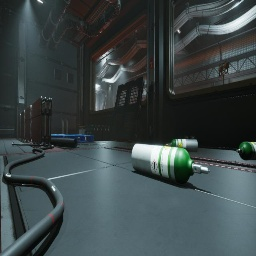0: (131, 144, 211, 184), (166, 139, 198, 152), (236, 142, 256, 161), (78, 135, 86, 141)
FireAlarm ,: (150, 57, 154, 70)
NitrogenTank ,: (31, 121, 32, 133)
